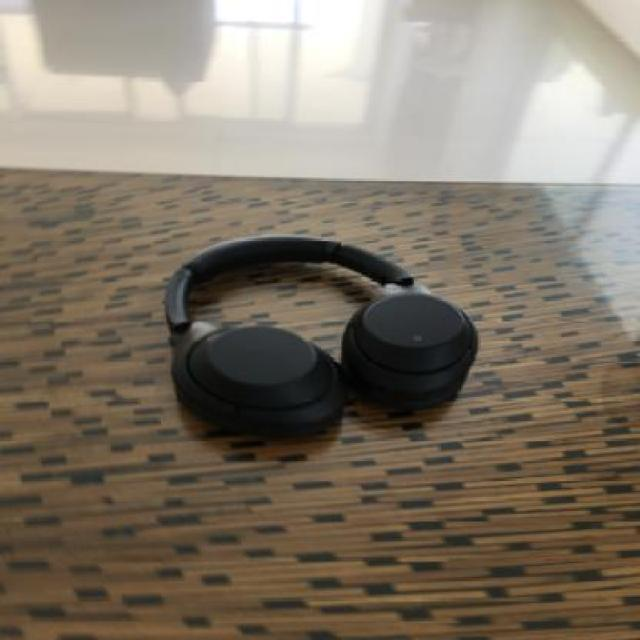earphone: (155, 152, 568, 475)
